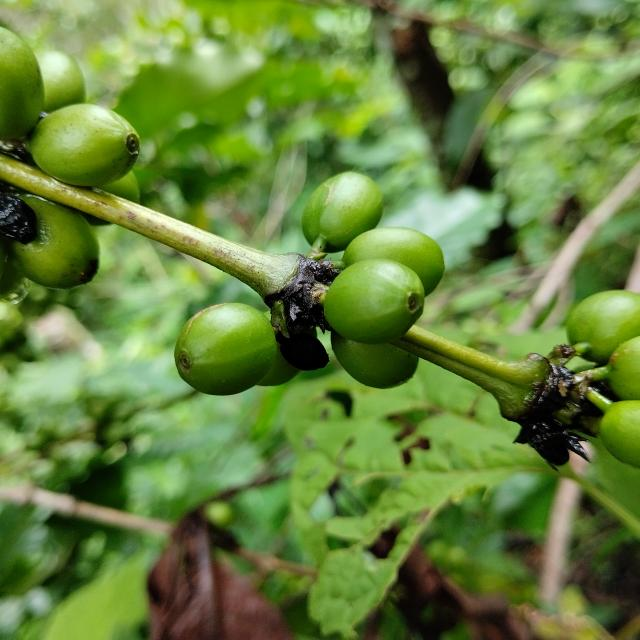green: (174, 303, 276, 396), (29, 103, 140, 186), (324, 259, 425, 344), (9, 194, 99, 289), (302, 171, 383, 259), (342, 227, 445, 296), (568, 290, 640, 365), (331, 332, 419, 389), (0, 26, 44, 139), (34, 49, 85, 112), (600, 401, 640, 469), (609, 336, 640, 401), (257, 343, 300, 386), (98, 170, 140, 203)
